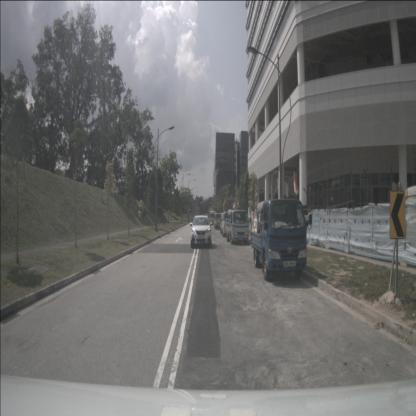vehicle-car: (190, 215, 212, 247)
vehicle-truck: (251, 198, 307, 281), (226, 209, 249, 244), (220, 212, 234, 237), (214, 214, 223, 229), (209, 211, 216, 225)
